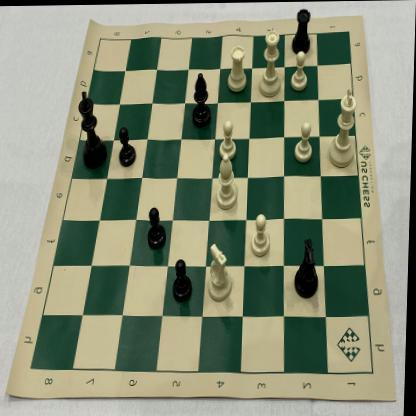black-bishop: (191, 70, 213, 130)
black-king: (75, 86, 111, 171)
black-knight: (290, 236, 324, 303)
black-pawn: (172, 252, 196, 304), (146, 203, 170, 252), (116, 122, 139, 169)
black-rook: (289, 5, 316, 60)
white-bishop: (215, 152, 244, 212)
white-king: (328, 85, 362, 171)
white-knight: (206, 238, 236, 305)
white-pawn: (286, 48, 314, 96), (252, 210, 276, 262), (293, 119, 316, 166), (218, 116, 242, 160)
white-queen: (257, 25, 285, 100)
white-rook: (225, 42, 251, 94)
